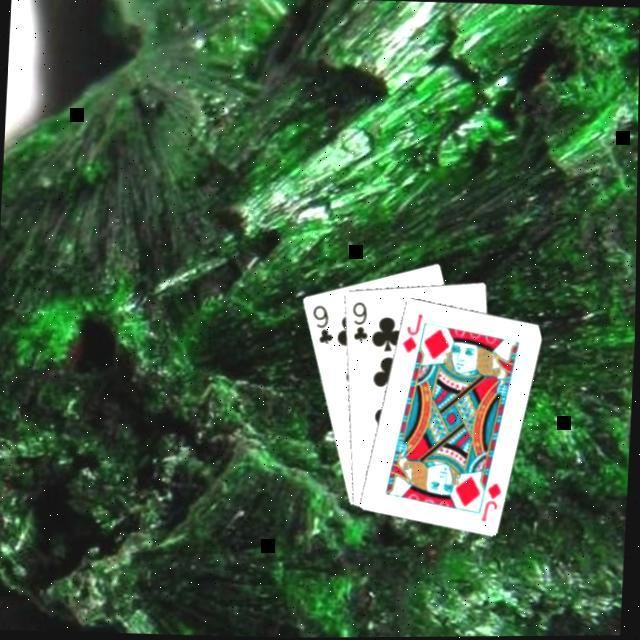9C: (310, 299, 340, 346), (350, 296, 376, 343)
JD: (400, 308, 429, 354), (480, 477, 508, 522)
